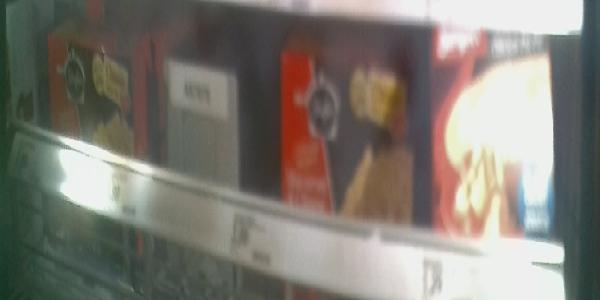pizza1: (276, 38, 421, 228), (429, 30, 555, 225), (45, 30, 148, 158)
